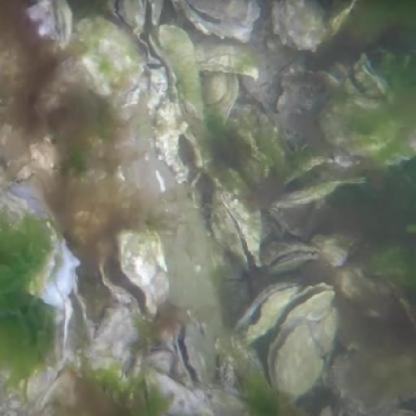Oyster- Indeterminate: (270, 314, 339, 405), (207, 186, 262, 272), (239, 280, 297, 344), (174, 319, 220, 387), (259, 238, 321, 274)
Oyster-Closed: (71, 18, 144, 93), (272, 0, 357, 53), (145, 365, 205, 416), (197, 38, 260, 77), (199, 72, 237, 132)
Oyster-Open: (94, 223, 174, 318), (265, 159, 361, 214), (175, 0, 255, 43), (40, 233, 79, 319), (330, 56, 386, 114), (274, 280, 332, 334)
